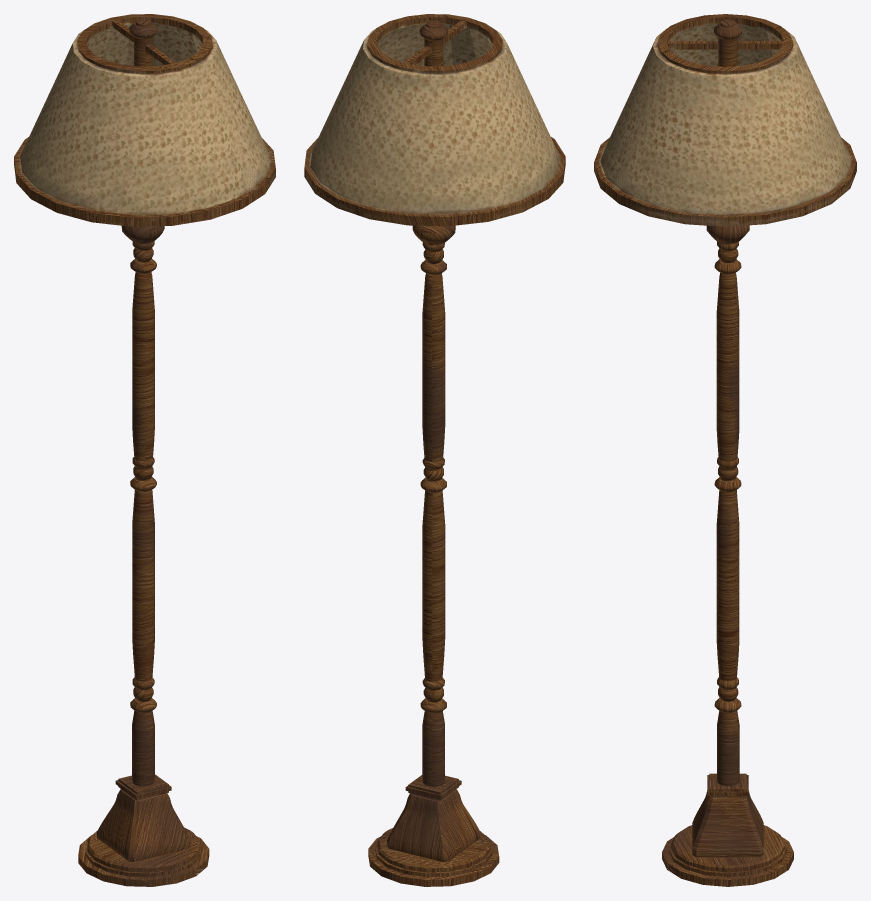
File: old_lamp_lowpoly.glb
3 views of the same model, side by side, from view 1: azimuth 30°, elevation 25°; view 2: azimuth 150°, elevation 25°; view 3: azimuth 270°, elevation 25° (orthographic).
Parts seen in each view (by area): view 1: lamps_2 (×12); view 2: lamps_2 (×12); view 3: lamps_2 (×13).
Boxes of the visible parts, x1,y1,x2,y2 form: lamps_2 (×12): (14,14,275,886); lamps_2 (×12): (304,14,565,886); lamps_2 (×13): (594,14,856,886).
Size of the model in its own units: 3.98 by 13.99 by 3.98.
1 material, 1 textured.
